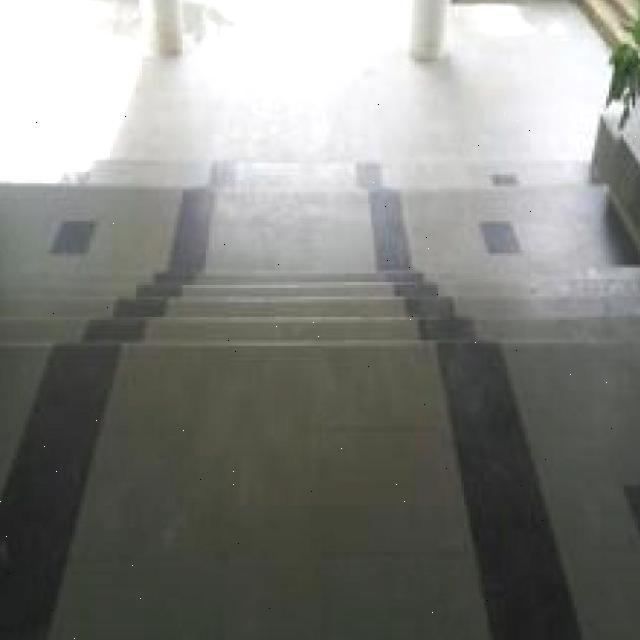stair: (93, 233, 557, 392)
